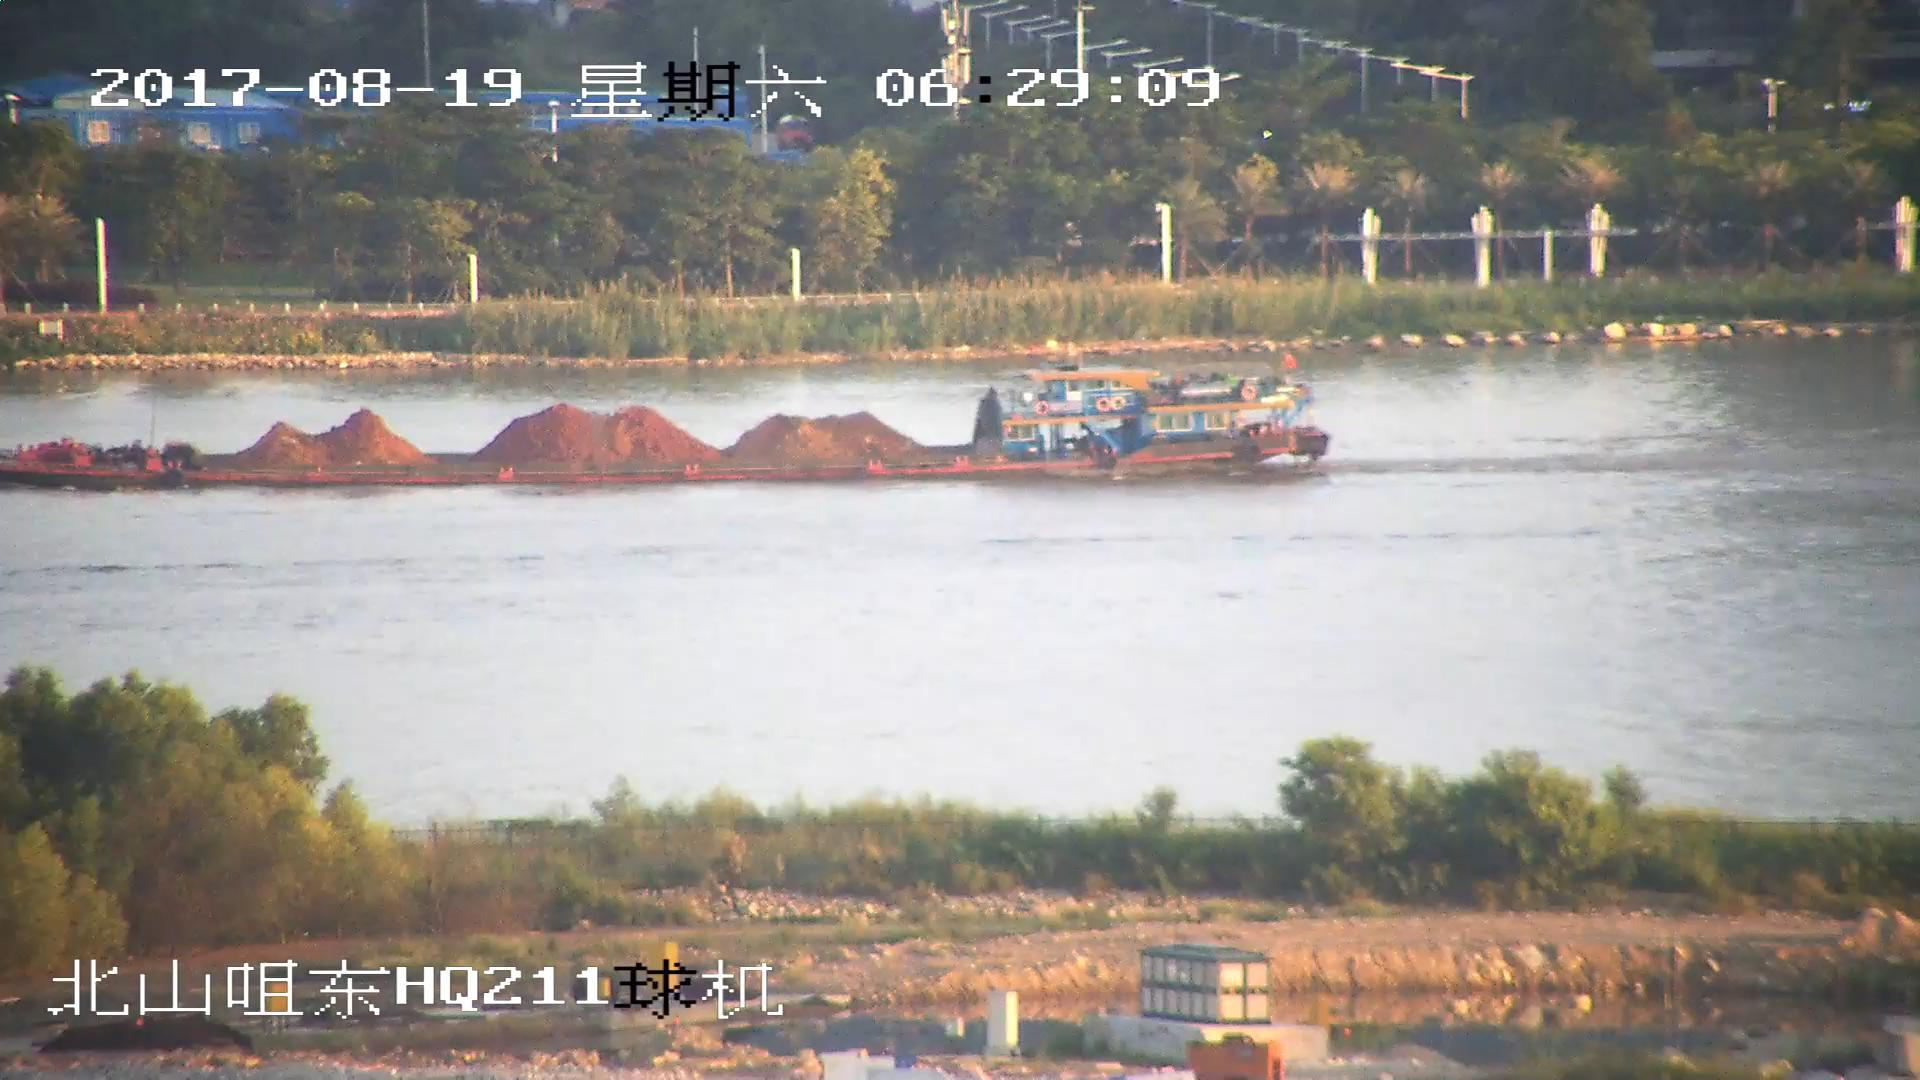Ship: (3, 353, 1325, 495)
